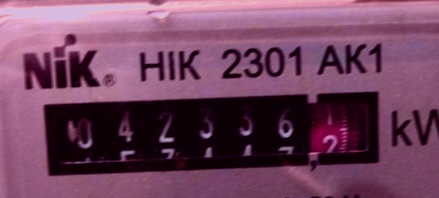0: (73, 112, 94, 148)
1: (321, 97, 335, 126)
2: (154, 106, 175, 143), (319, 130, 339, 152)
3: (195, 101, 215, 140), (233, 100, 254, 136)
4: (114, 104, 134, 142)
6: (272, 102, 295, 137)
screen: (35, 79, 389, 182)
